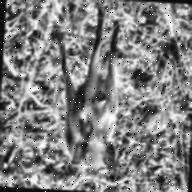boar: (48, 26, 133, 174)
